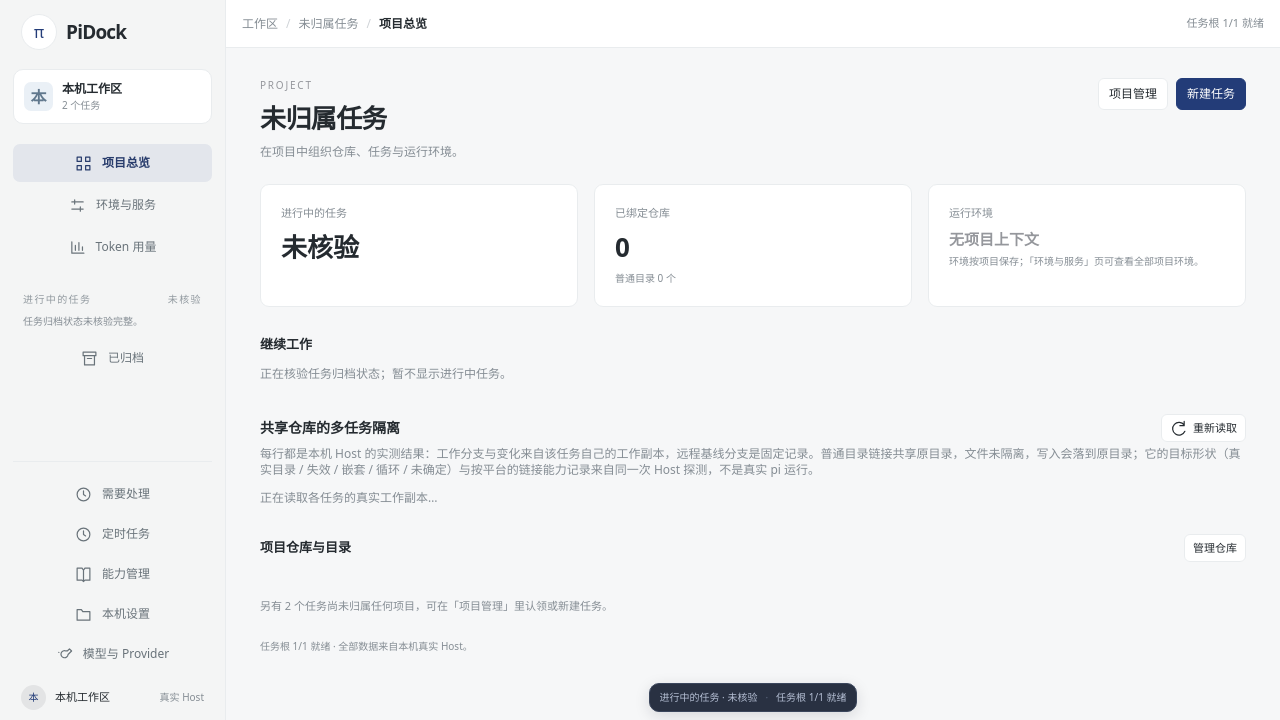
Desktop inventory pending creation recovery › keeps main's retained-files explanation visible if the post-abandon inventory refresh fails
The image size is (1280, 720).
Click the button "项目管理": (1133, 94) [1098,78,1168,110]
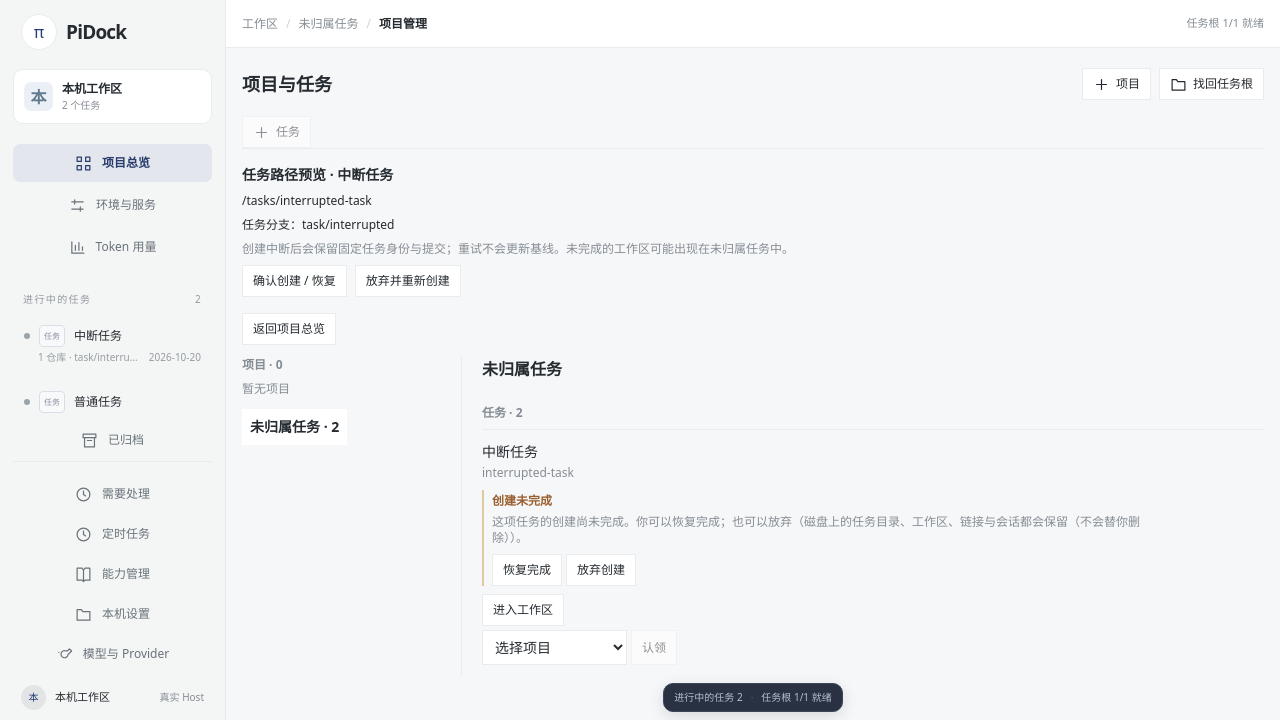
Click the button "放弃创建": (601, 570) [566,554,636,586]
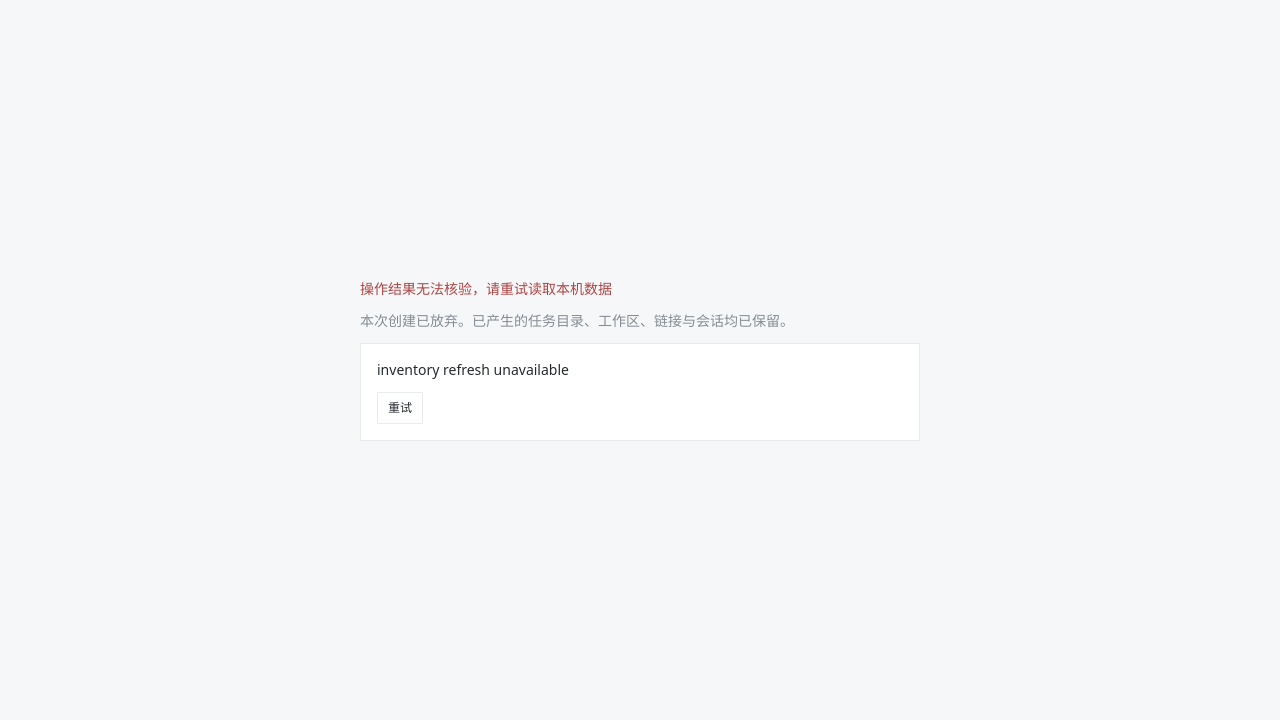
Expected: the message "本次创建已放弃。已产生的任务目录、工作区、链接与会话均已保留。" is shown, [360,311,794,330]
Expected: the text "inventory refresh unavailable" is shown, [377,360,569,379]
